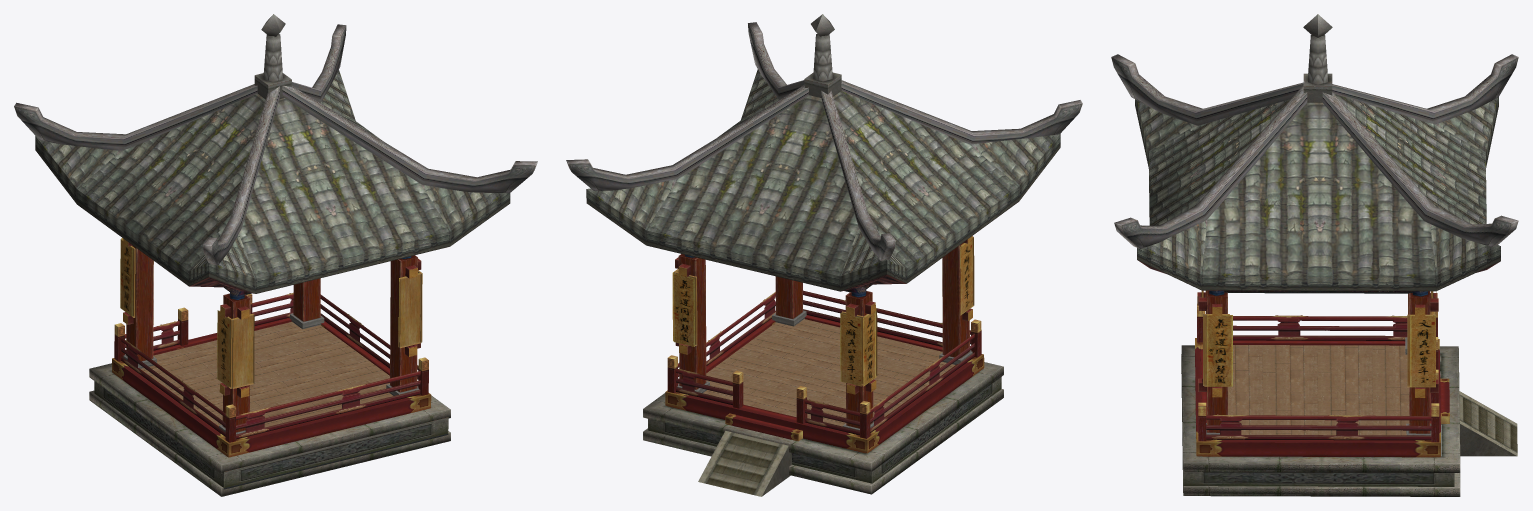
File: Dingqingchuan_wujian_23.FBX
3 views of the same model, side by side, from view 1: azimuth 30°, elevation 25°; view 2: azimuth 150°, elevation 25°; view 3: azimuth 270°, elevation 25° (orthographic). The views are drawn at different scales.
Parts seen in each view (by area): view 1: DrawCall_0214; view 2: DrawCall_0214; view 3: DrawCall_0214.
Boxes of the visible parts, left/top/right/bottom form: DrawCall_0214: left=14, top=14, right=537, bottom=496; DrawCall_0214: left=566, top=14, right=1082, bottom=496; DrawCall_0214: left=1111, top=14, right=1518, bottom=496.
Bounding box in the file's own units: 7.74 × 9 × 7.78.
